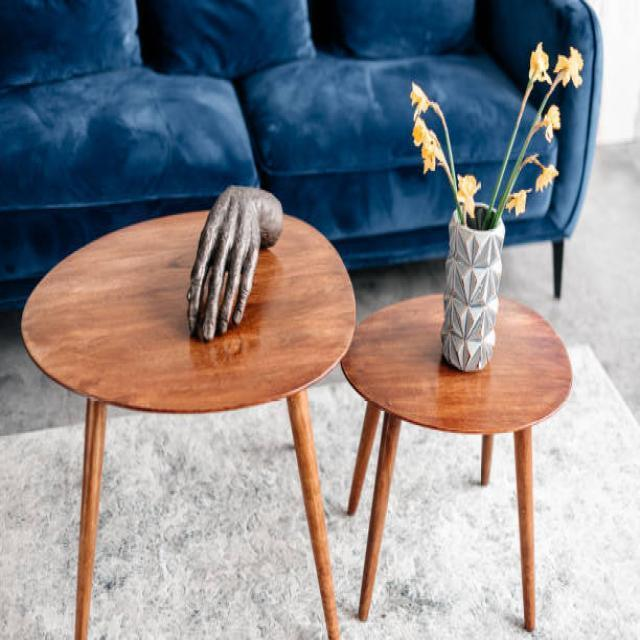table: (19, 206, 357, 638), (340, 290, 572, 631)
